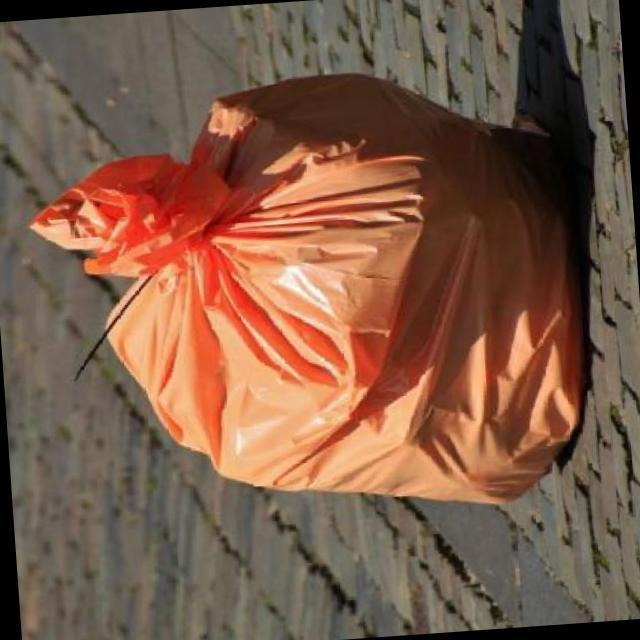Garbage_Bag: (18, 51, 604, 542)
